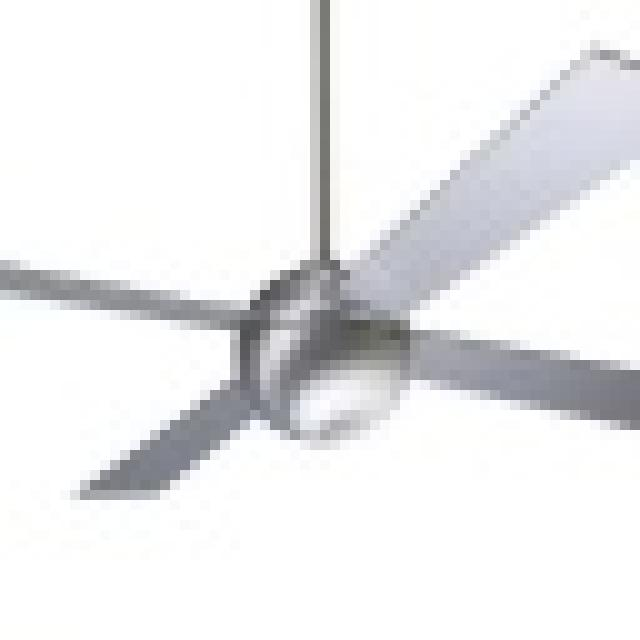Bulb: (0, 140, 640, 516)
